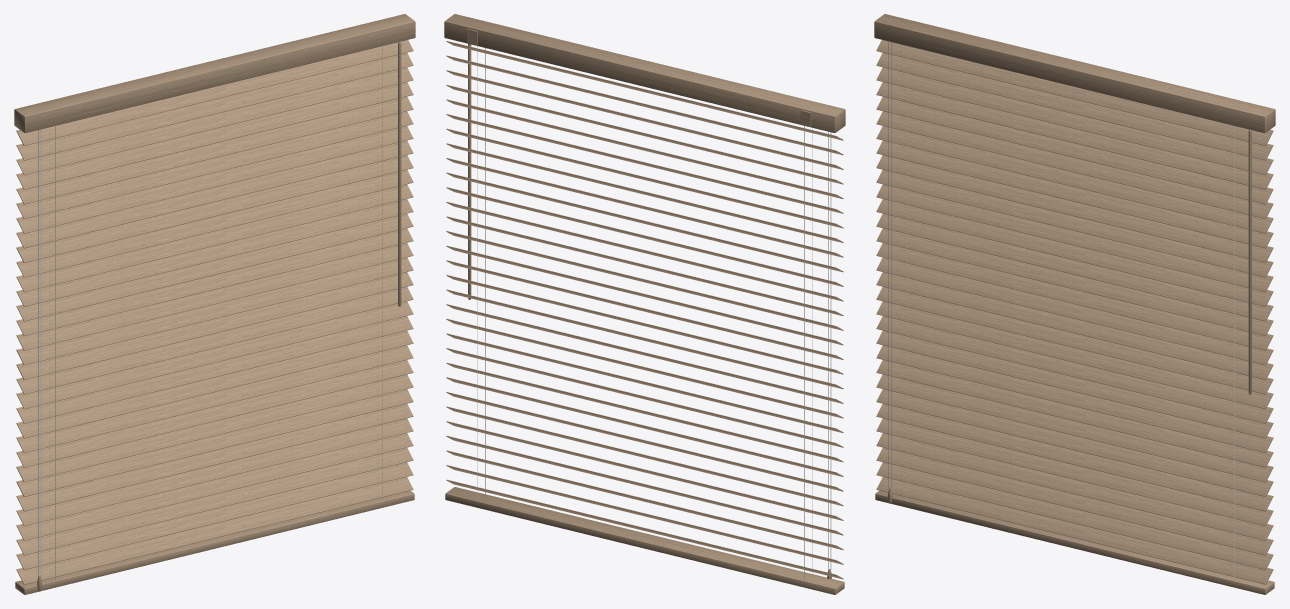
File: veneciana_madera_140_c100.glb
3 views of the same model, side by side, from view 1: azimuth 30°, elevation 25°; view 2: azimuth 150°, elevation 25°; view 3: azimuth 330°, elevation 25° (orthographic).
Visible parts, largest first — view 1: veneciana_madera_140_c100; view 2: veneciana_madera_140_c100; view 3: veneciana_madera_140_c100.
Boxes of the visible parts, x1,y1,x2,y2 form: veneciana_madera_140_c100: [14, 14, 415, 594]; veneciana_madera_140_c100: [444, 14, 845, 594]; veneciana_madera_140_c100: [874, 14, 1275, 594].
Bounding box in the file's own units: 1.2 × 1.4 × 0.0639.
Materials: 2 (1 with a texture image).
